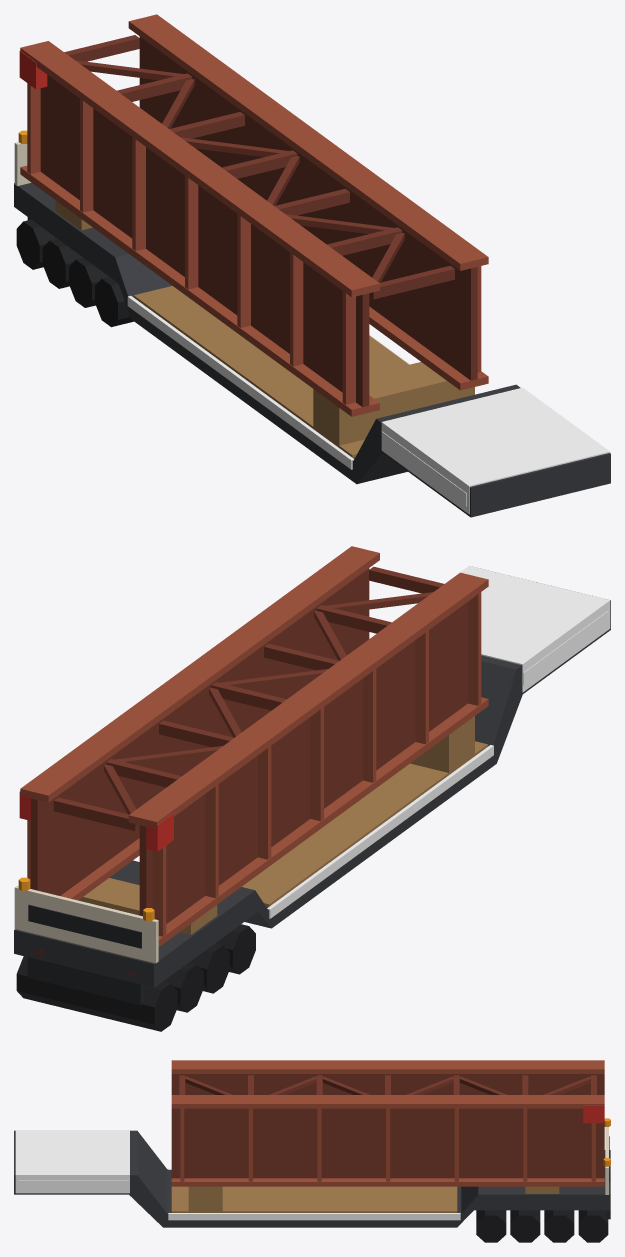
File: ll_trailer_girder.glb
3 renders of one model, top to bottom at view 1: azimuth 30°, elevation 25°; view 2: azimuth 150°, elevation 25°; view 3: azimuth 270°, elevation 25°, orthographic. The views are drawn at different scales.
Parts seen in each view (by area): view 1: model; view 2: model; view 3: model.
Part boxes in pixels (left/top/right/bottom): model: left=14, top=14, right=610, bottom=517; model: left=14, top=546, right=610, bottom=1031; model: left=14, top=1060, right=610, bottom=1242.
Size of the model in its own units: 2.52 by 3.59 by 14.01.
